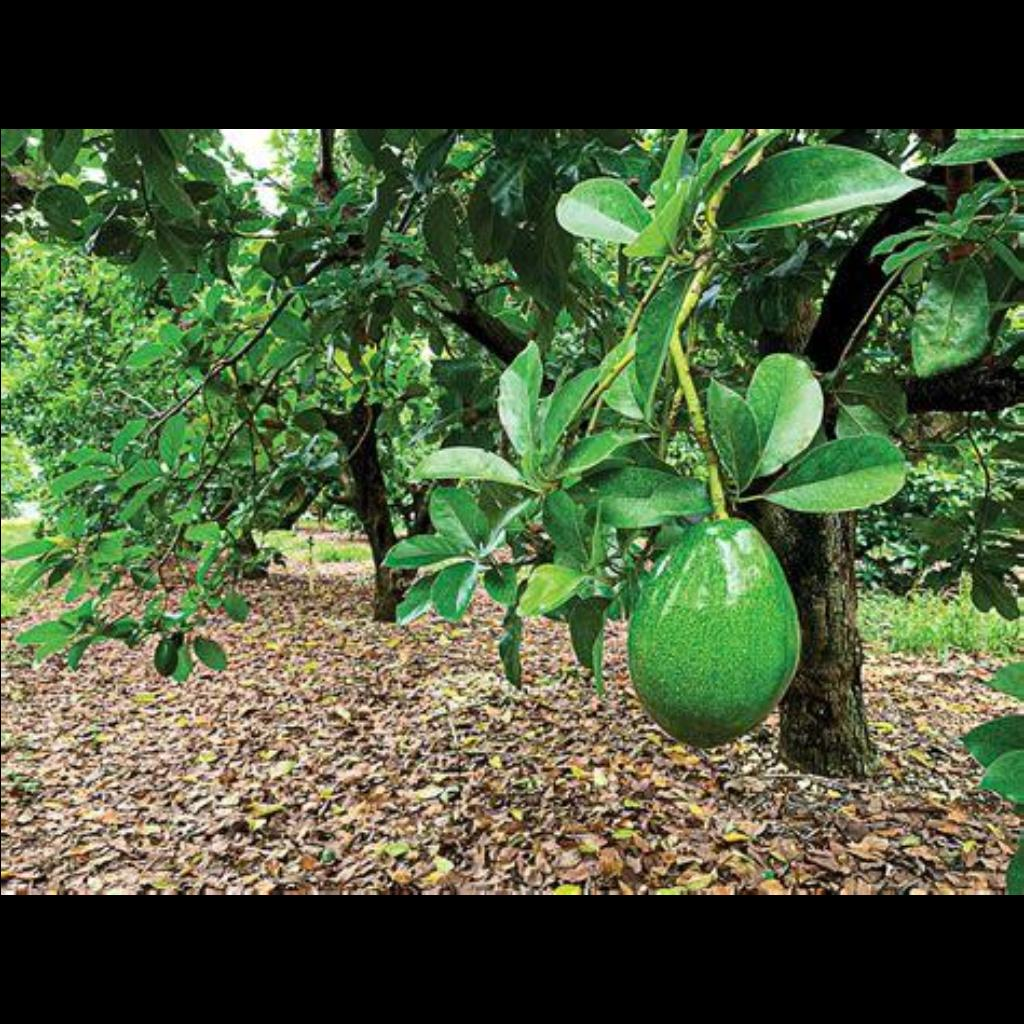Healthy: (632, 505, 802, 743)
